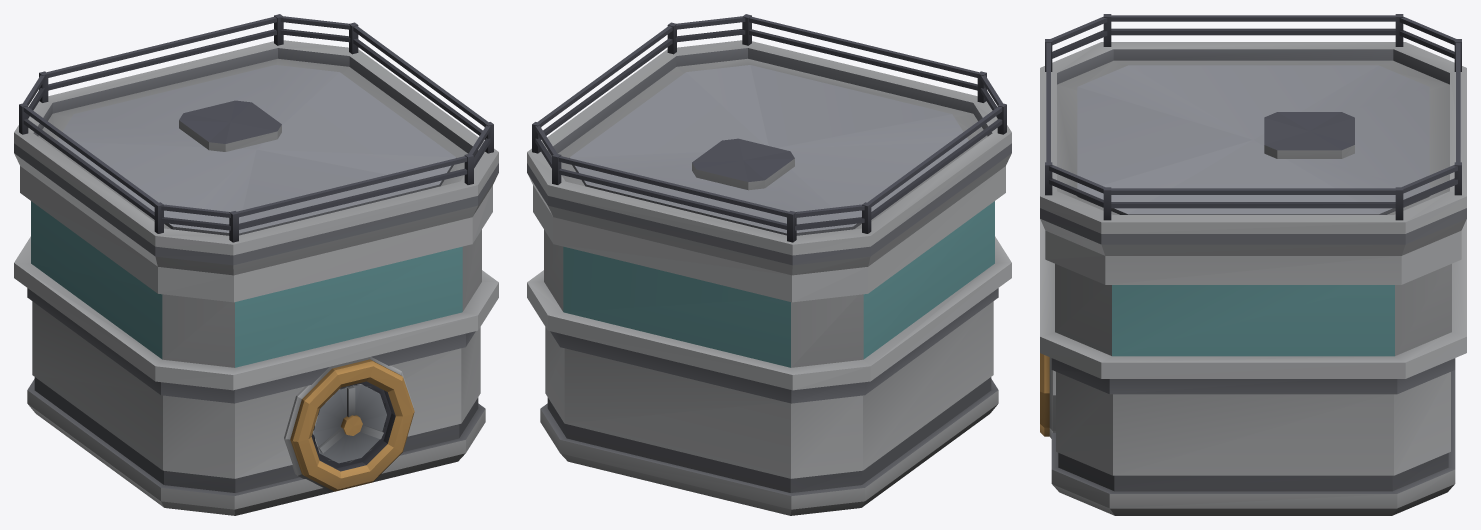
The model's file is command.glb.
The picture shows the model from 3 angles, left to right: view 1: azimuth 30°, elevation 25°; view 2: azimuth 150°, elevation 25°; view 3: azimuth 270°, elevation 25°; orthographic projection. The views are drawn at different scales.
Visible parts, largest first — view 1: command; view 2: command; view 3: command.
Boxes of the visible parts, x1,y1,x2,y2 form: command: [14, 14, 498, 515]; command: [527, 14, 1011, 515]; command: [1040, 14, 1466, 515].
Size of the model in its own units: 12 by 10.29 by 12.
